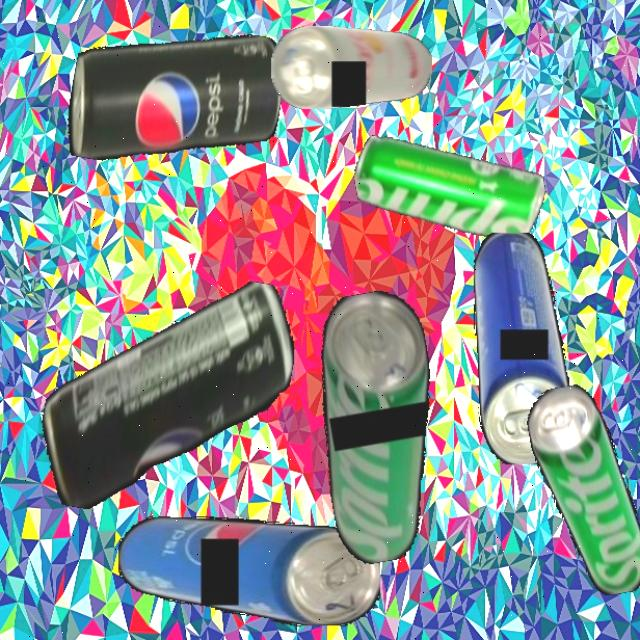debris: (29, 250, 306, 540), (298, 285, 461, 568), (61, 6, 291, 189), (348, 108, 554, 271), (117, 516, 380, 626), (522, 378, 640, 603), (473, 232, 569, 464), (271, 25, 432, 109)
